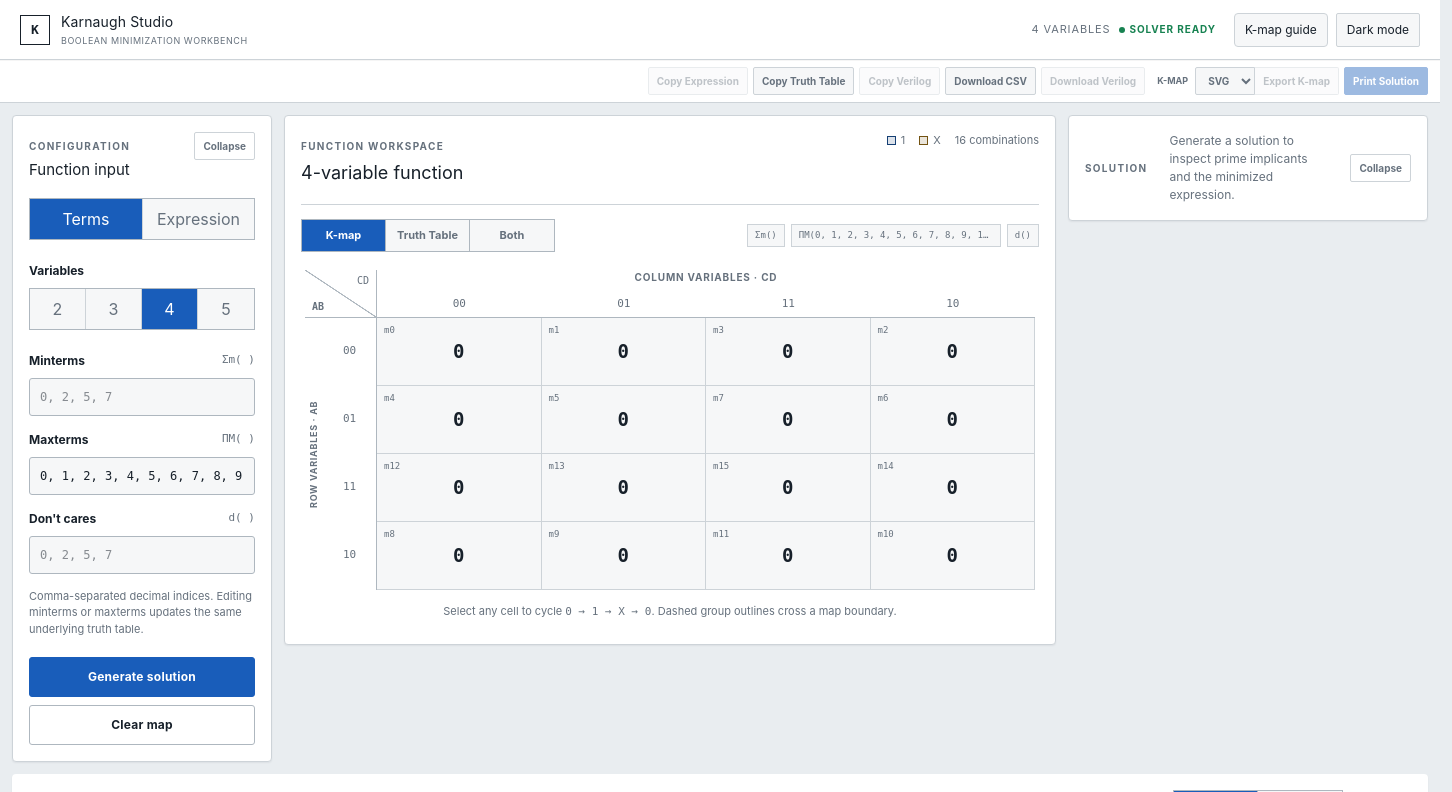
it: HomePage K-map workbench › renders five variables as two distinct four-by-four planes
This screenshot has width=1452, height=792.
Click the button "5" at (226, 308), box [198, 288, 254, 328]
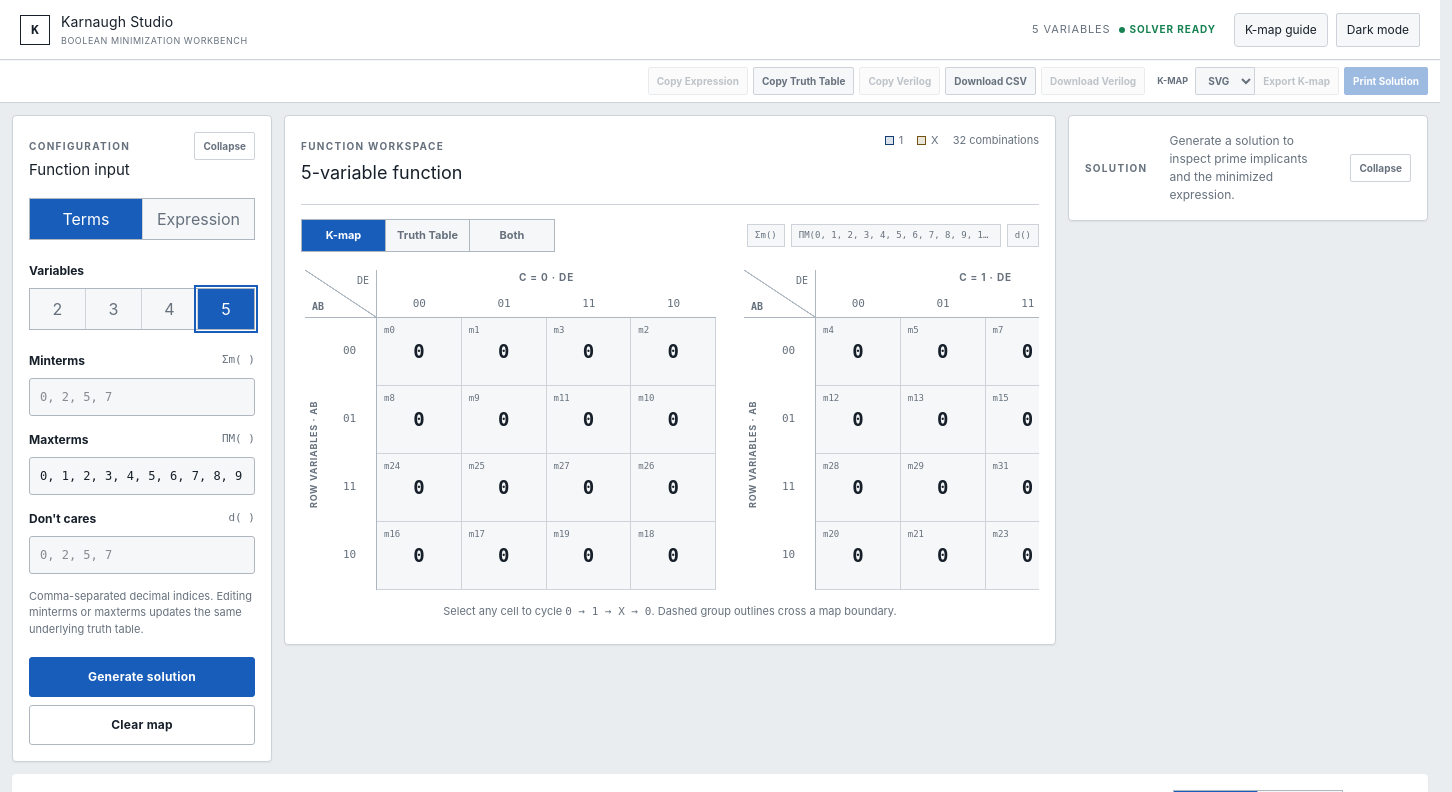
Expected: the element named "Karnaugh map plane C equals 0" is shown, [305, 270, 716, 590]
Expected: the element named "Karnaugh map plane C equals 1" is shown, [744, 270, 1039, 590]
Expected: the number of buttons "m0 0" is 32
